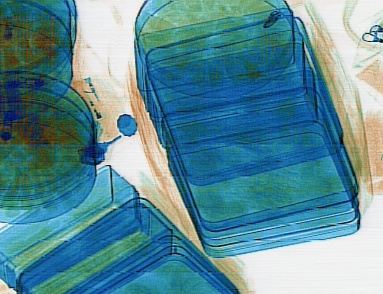lighter: (66, 70, 119, 144)
